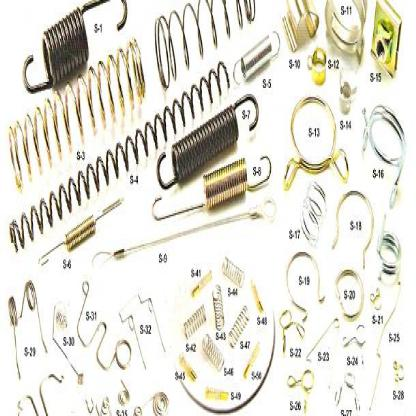FOD: (7, 56, 231, 256), (8, 37, 146, 194), (156, 86, 260, 194), (153, 141, 273, 227), (23, 0, 128, 97), (152, 0, 258, 91), (37, 191, 125, 270), (232, 31, 280, 86), (373, 205, 405, 286), (297, 177, 328, 245), (228, 301, 252, 352), (183, 300, 208, 343), (202, 330, 226, 374), (210, 280, 225, 336), (221, 254, 246, 287)
